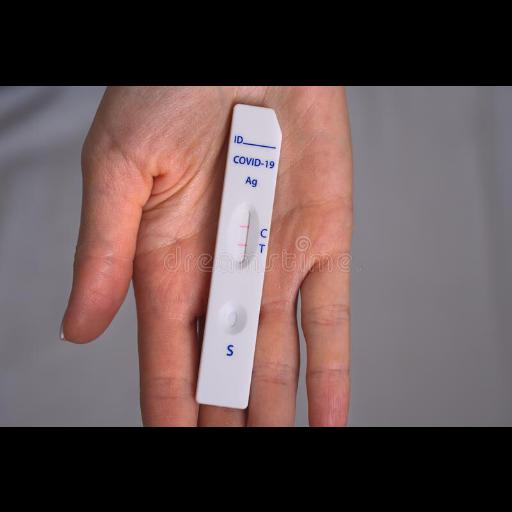Pos: (194, 103, 287, 409)
